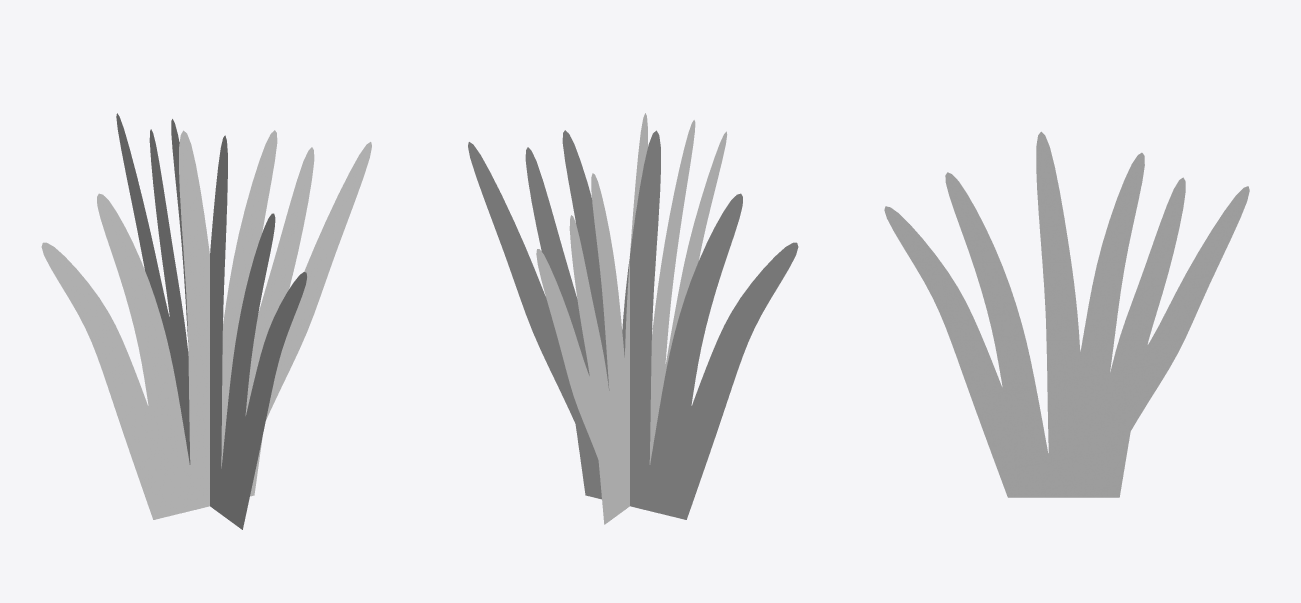
File: Grass.fbx
3 views of the same model, side by side, from view 1: azimuth 30°, elevation 25°; view 2: azimuth 150°, elevation 25°; view 3: azimuth 270°, elevation 25° (orthographic). The views are drawn at different scales.
Parts seen in each view (by area): view 1: Plane; view 2: Plane; view 3: Plane.
Part boxes in pixels (box(x1,y1,x2,y2)): Plane: box(41, 113, 371, 529); Plane: box(468, 113, 798, 524); Plane: box(884, 131, 1249, 497).
Bounding box in the file's own units: 2 × 2 × 2.
Materials: 1 (1 with a texture image).
